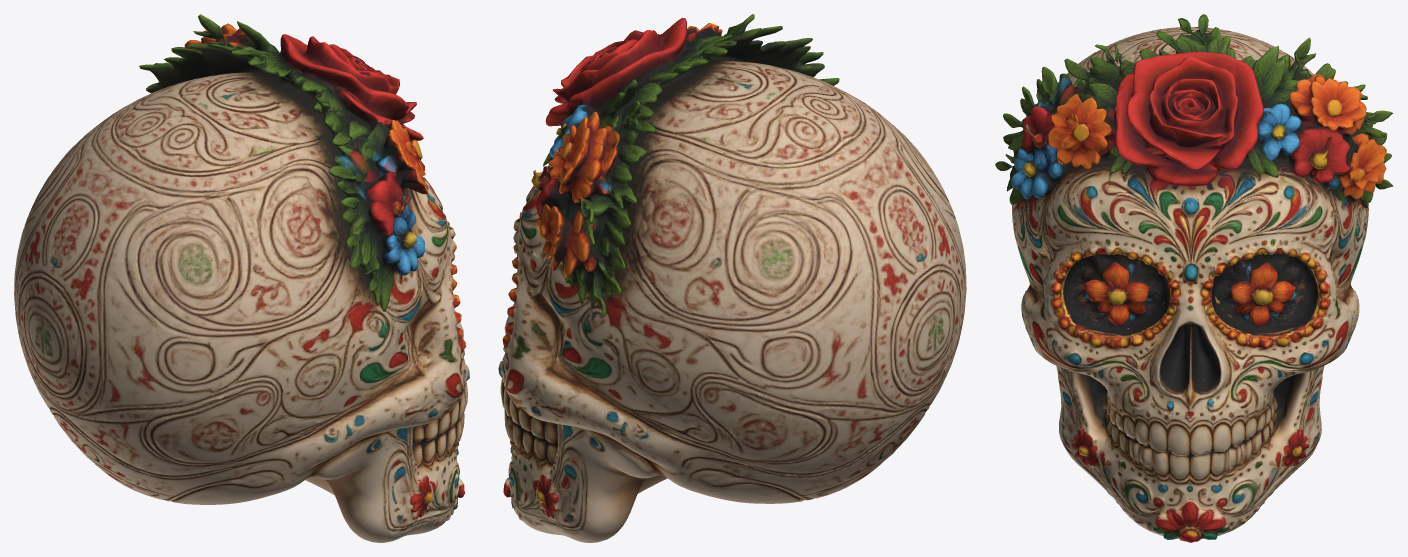
The picture shows the model from 3 angles, left to right: view 1: azimuth 30°, elevation 25°; view 2: azimuth 150°, elevation 25°; view 3: azimuth 270°, elevation 25°; orthographic projection. The views are drawn at different scales.
Parts seen in each view (by area): view 1: tripo_node_4bf91c65-c73f-47b4-b95f-85d6f1e1e4c1; view 2: tripo_node_4bf91c65-c73f-47b4-b95f-85d6f1e1e4c1; view 3: tripo_node_4bf91c65-c73f-47b4-b95f-85d6f1e1e4c1.
Part boxes in pixels (x1=…): tripo_node_4bf91c65-c73f-47b4-b95f-85d6f1e1e4c1: x1=14, y1=14, x2=469, y2=542; tripo_node_4bf91c65-c73f-47b4-b95f-85d6f1e1e4c1: x1=498, y1=14, x2=966, y2=542; tripo_node_4bf91c65-c73f-47b4-b95f-85d6f1e1e4c1: x1=995, y1=14, x2=1393, y2=542.
Bounding box in the file's own units: 0.8667 × 0.9968 × 0.8058.
1 material, 1 textured.
